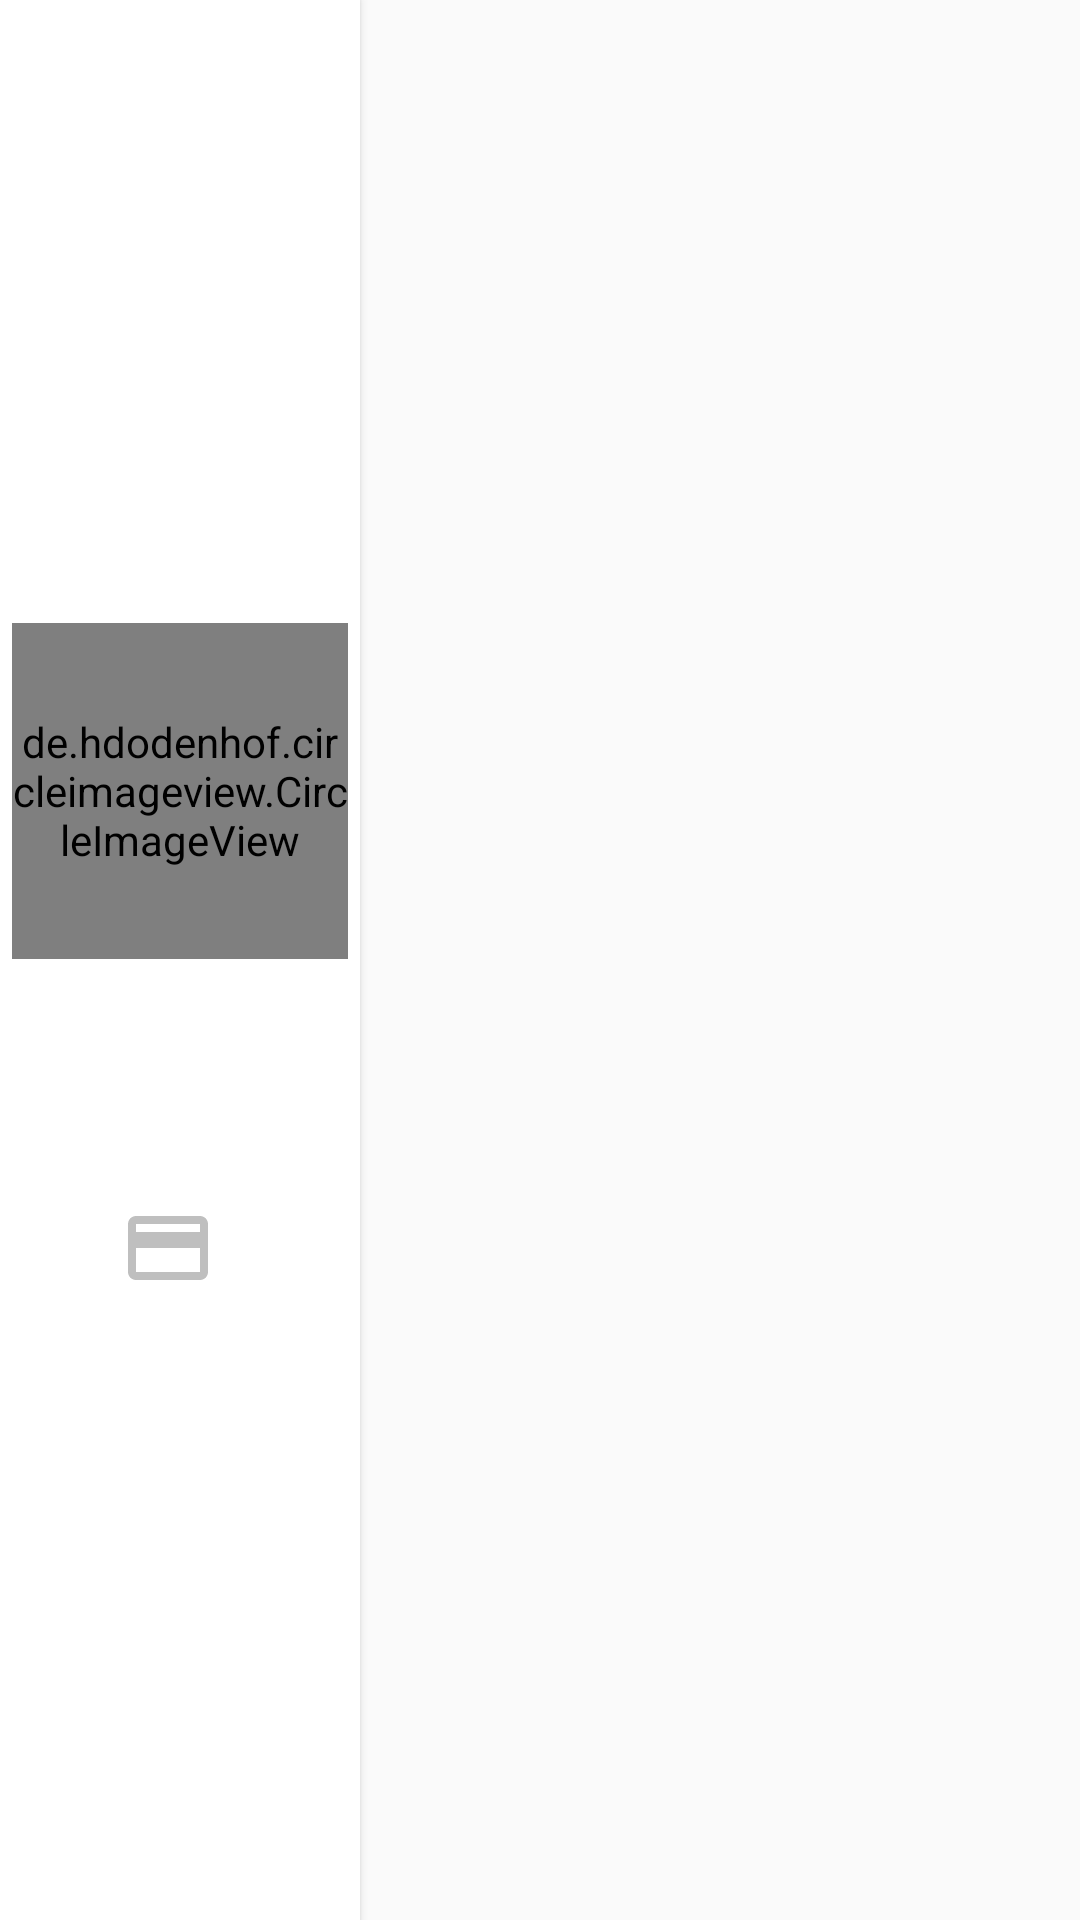

Icons on this 1080w x 1920h Android screen, each with its box as detection(x1, y1, x2, y2):
card: detection(128, 1216, 208, 1280)
